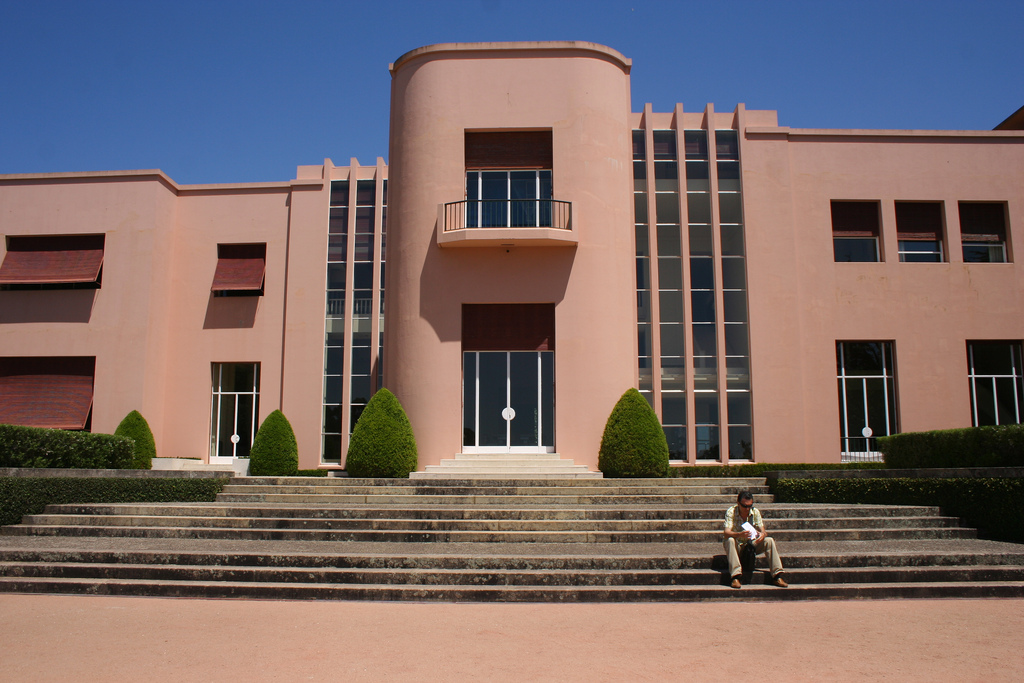serralves: (0, 40, 1023, 467)
